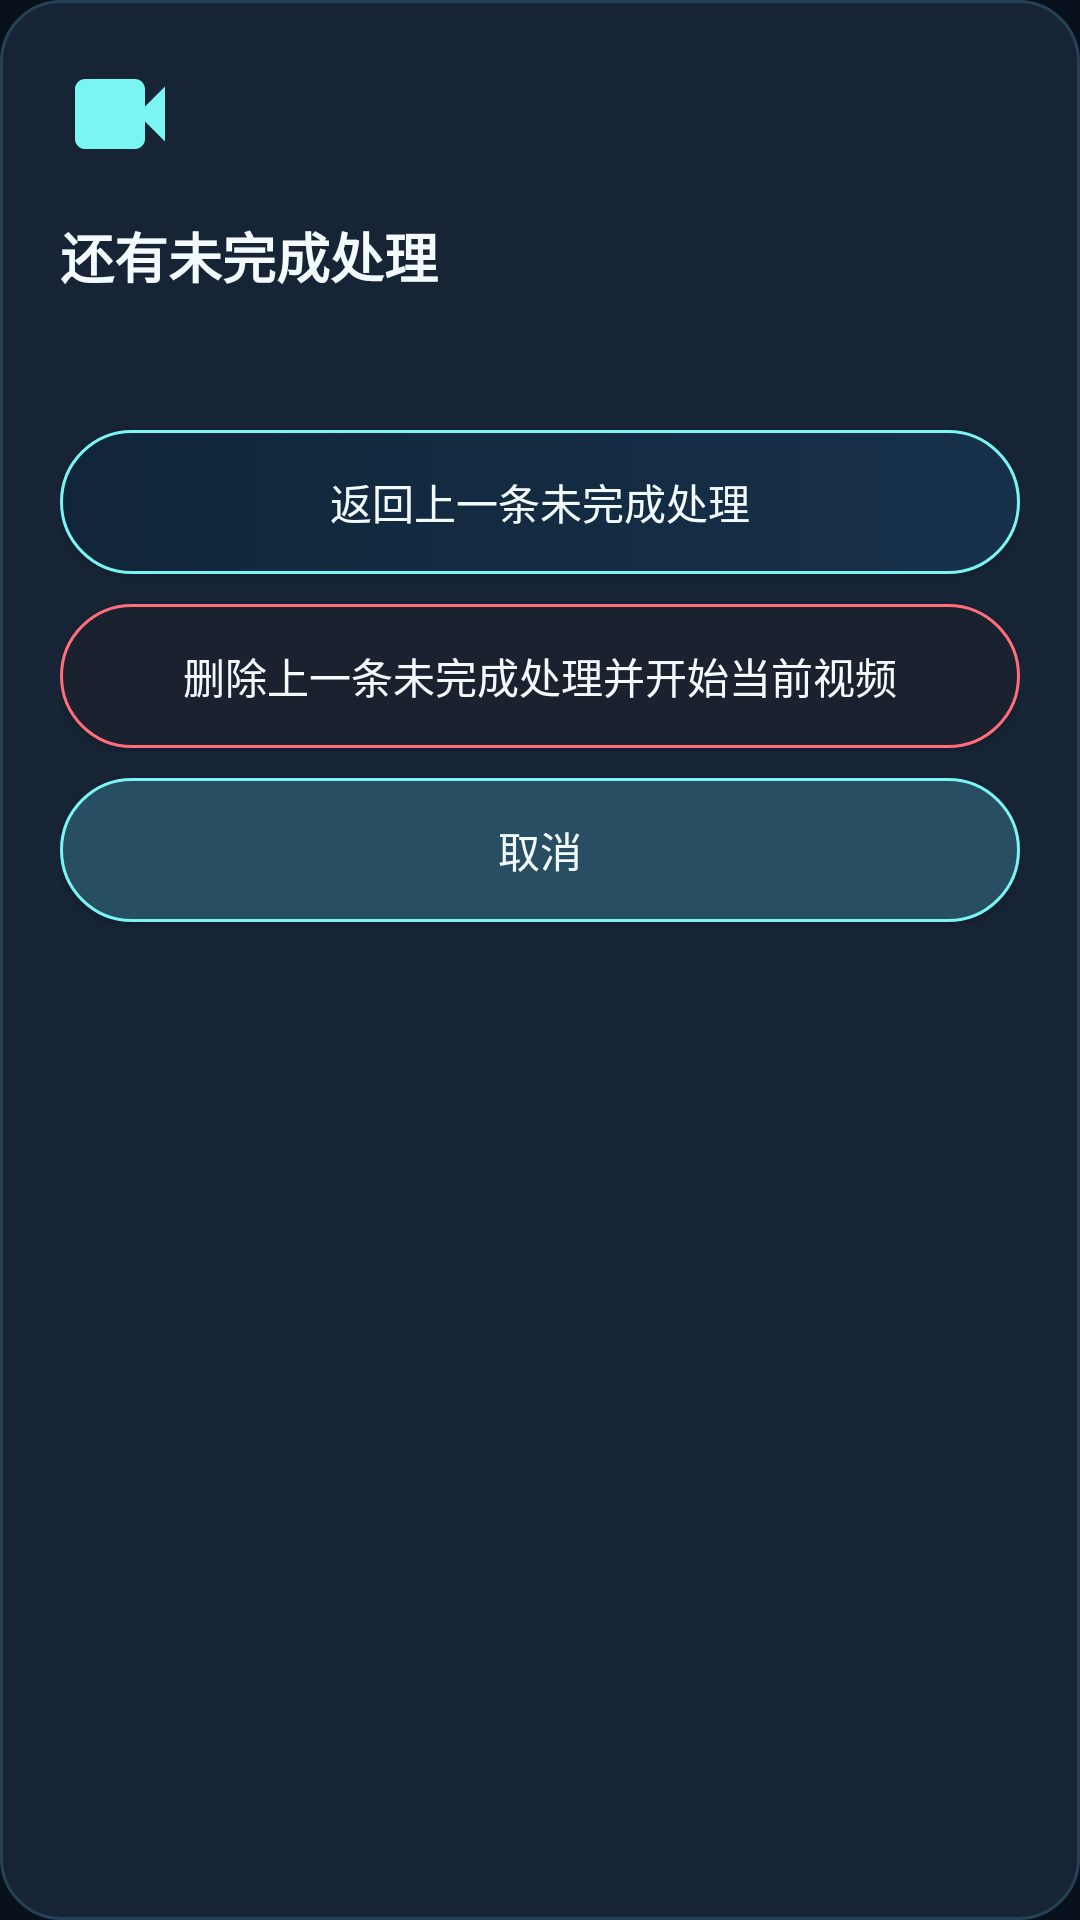

Icon bounding boxes for this 1080px x 1920px phone screenshot, format (x1, y1, x2, y2):
video: (75, 79, 165, 149)
